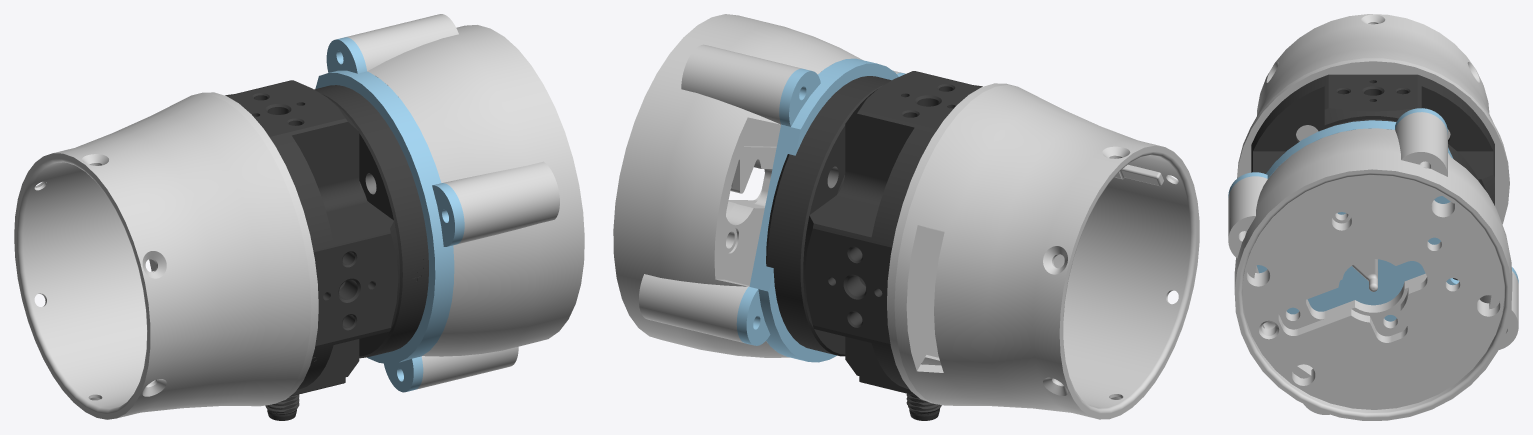
Rendered from bota_and_adaptors.dae.
3 renders of one model, left to right at view 1: azimuth 30°, elevation 25°; view 2: azimuth 150°, elevation 25°; view 3: azimuth 270°, elevation 25°, orthographic. The views are drawn at different scales.
Parts seen in each view (by area): view 1: wrist-adaptor-back, Part 3, SensONE, Part 1; view 2: wrist-adaptor-back, Part 3, SensONE, Part 1; view 3: Part 3, wrist-adaptor-back, SensONE, Part 1.
Part boxes in pixels (x1,y1,x2,y2): wrist-adaptor-back: (14, 92, 318, 419); Part 3: (345, 14, 584, 389); SensONE: (225, 80, 428, 420); Part 1: (315, 37, 464, 392); wrist-adaptor-back: (887, 83, 1199, 419); Part 3: (613, 14, 901, 357); SensONE: (766, 71, 982, 420); Part 1: (736, 58, 905, 362); Part 3: (1228, 112, 1518, 420); wrist-adaptor-back: (1237, 14, 1509, 224); SensONE: (1251, 74, 1494, 280); Part 1: (1228, 108, 1518, 321).
Bounding box in the file's own units: 0.1122 × 0.0784 × 0.0844.
